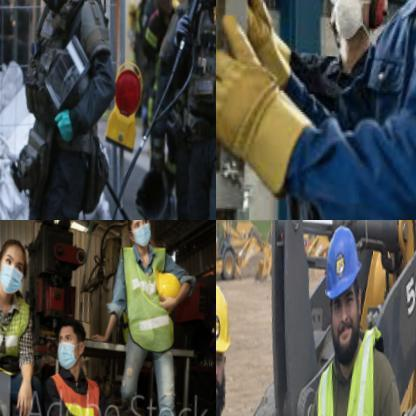vest: (5, 3, 122, 136), (288, 326, 400, 415), (109, 248, 184, 359), (174, 2, 215, 132), (0, 277, 37, 381), (36, 373, 100, 415)
